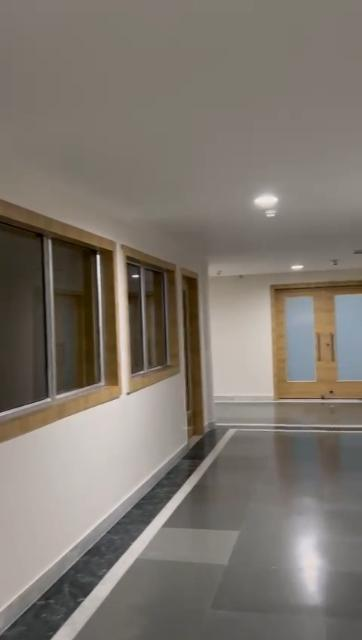door: (275, 282, 362, 407), (179, 269, 203, 437)
floor: (10, 404, 362, 640)
wall: (2, 375, 183, 605), (0, 147, 217, 273), (215, 282, 269, 394)
